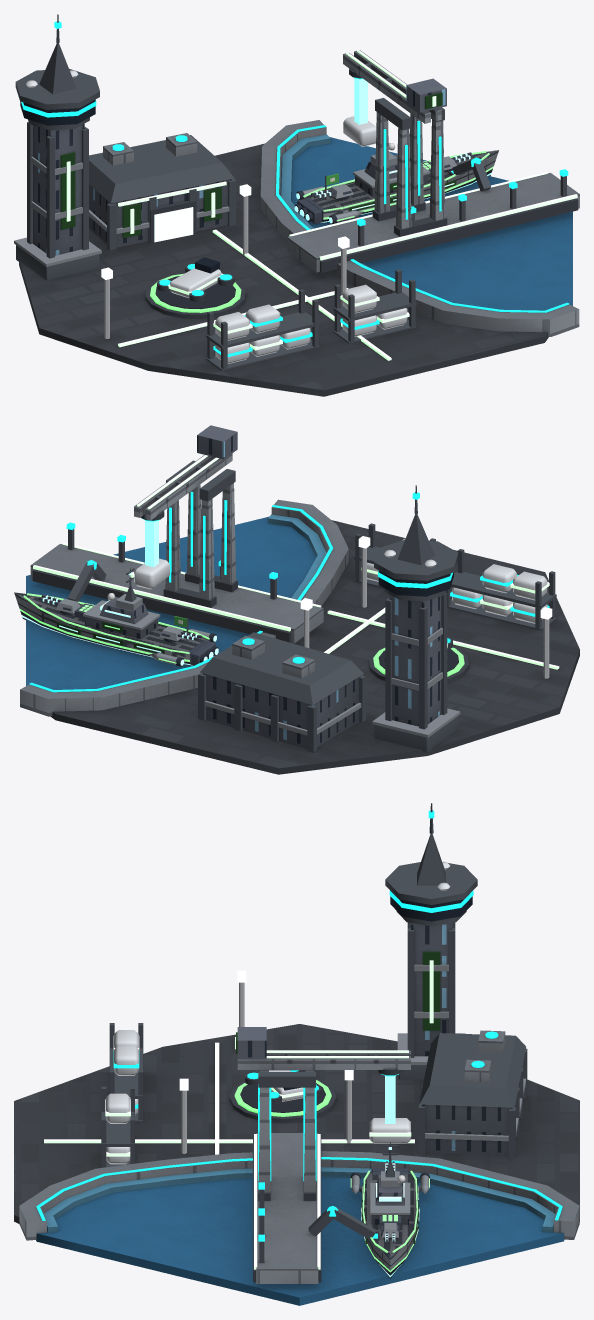
File: port_scifi_green.glb
3 views of the same model, one above another, from view 1: azimuth 30°, elevation 25°; view 2: azimuth 150°, elevation 25°; view 3: azimuth 270°, elevation 25° (orthographic). The views are drawn at different scales.
Visible parts, largest first — view 1: port_scifi_green; view 2: port_scifi_green; view 3: port_scifi_green.
Boxes of the visible parts, box(x1,y1,x2,y2) form: port_scifi_green: box(14, 14, 579, 396); port_scifi_green: box(14, 425, 579, 774); port_scifi_green: box(14, 803, 579, 1305).
Size of the model in its own units: 1.58 by 0.72 by 1.37.
Materials: 9 (1 with a texture image).
